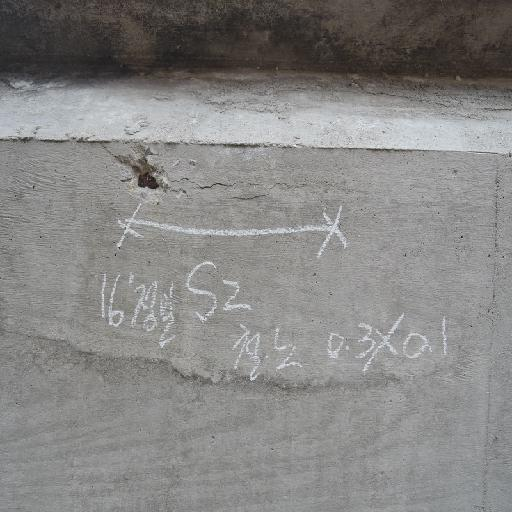exposed_rebar: (139, 172, 159, 188)
spalling: (114, 145, 167, 190)
